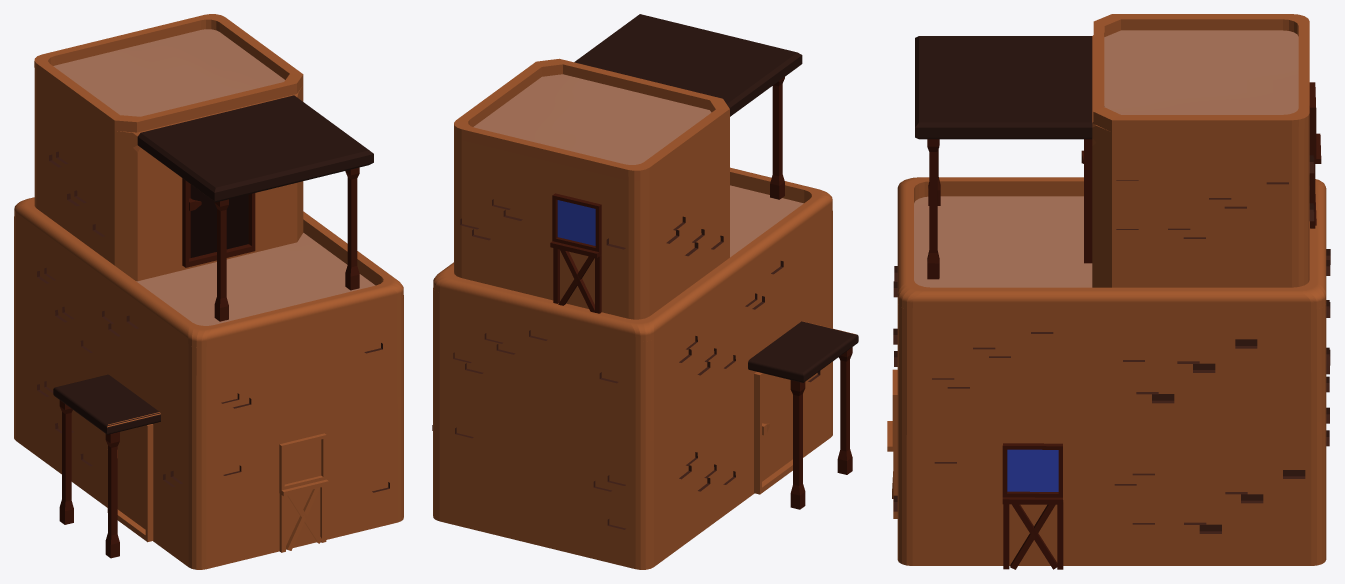
The model's file is BigHouse.fbx.
3 renders of one model, left to right at view 1: azimuth 30°, elevation 25°; view 2: azimuth 150°, elevation 25°; view 3: azimuth 270°, elevation 25°, orthographic. The views are drawn at different scales.
Parts seen in each view (by area): view 1: House_Big1; view 2: House_Big1; view 3: House_Big1.
Boxes of the visible parts, bbox=[...] form: House_Big1: bbox=[14, 14, 403, 569]; House_Big1: bbox=[432, 14, 858, 569]; House_Big1: bbox=[887, 14, 1330, 569].
Size of the model in its own units: 514 by 673 by 615.
